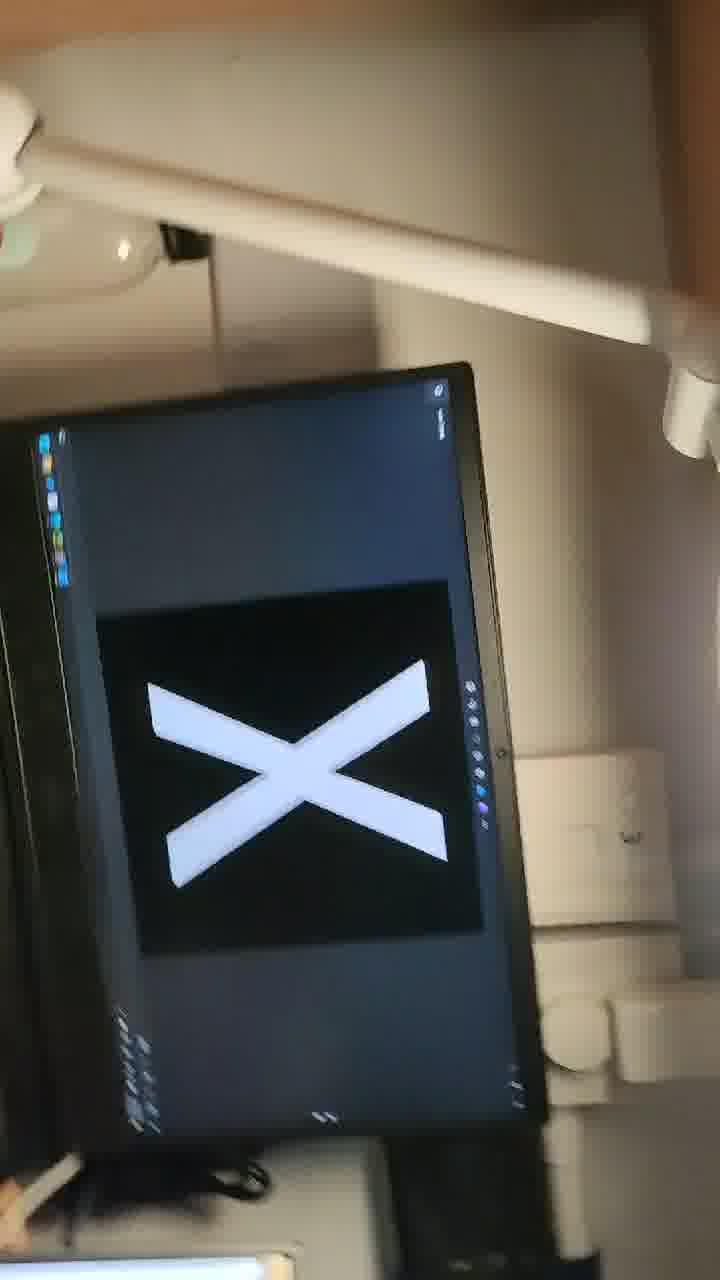X: (76, 584, 531, 1009)
